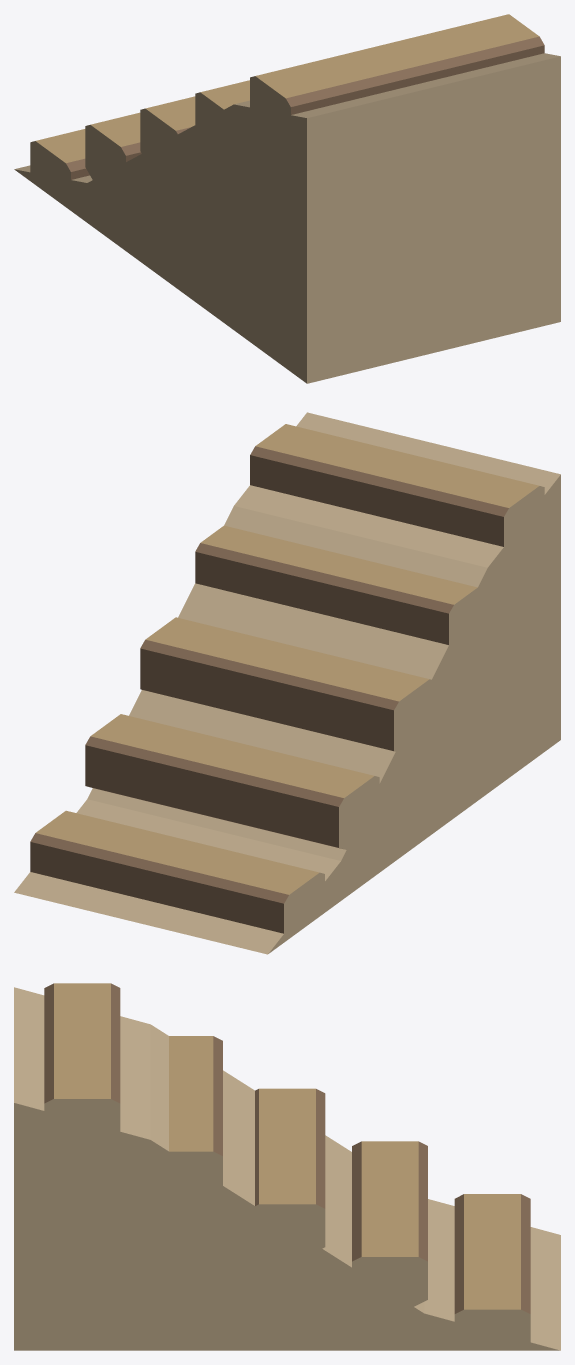
File: Path_Hill_Sharp_Center.obj
3 renders of one model, top to bottom at view 1: azimuth 30°, elevation 25°; view 2: azimuth 150°, elevation 25°; view 3: azimuth 270°, elevation 25°, orthographic. The views are drawn at different scales.
Visible parts, largest first — view 1: object1; view 2: object1; view 3: object1.
Boxes of the visible parts, x1,y1,x2,y2 form: object1: [14, 14, 560, 383]; object1: [14, 412, 560, 954]; object1: [14, 983, 560, 1350].
Size of the model in its own units: 1 by 1.02 by 2.
